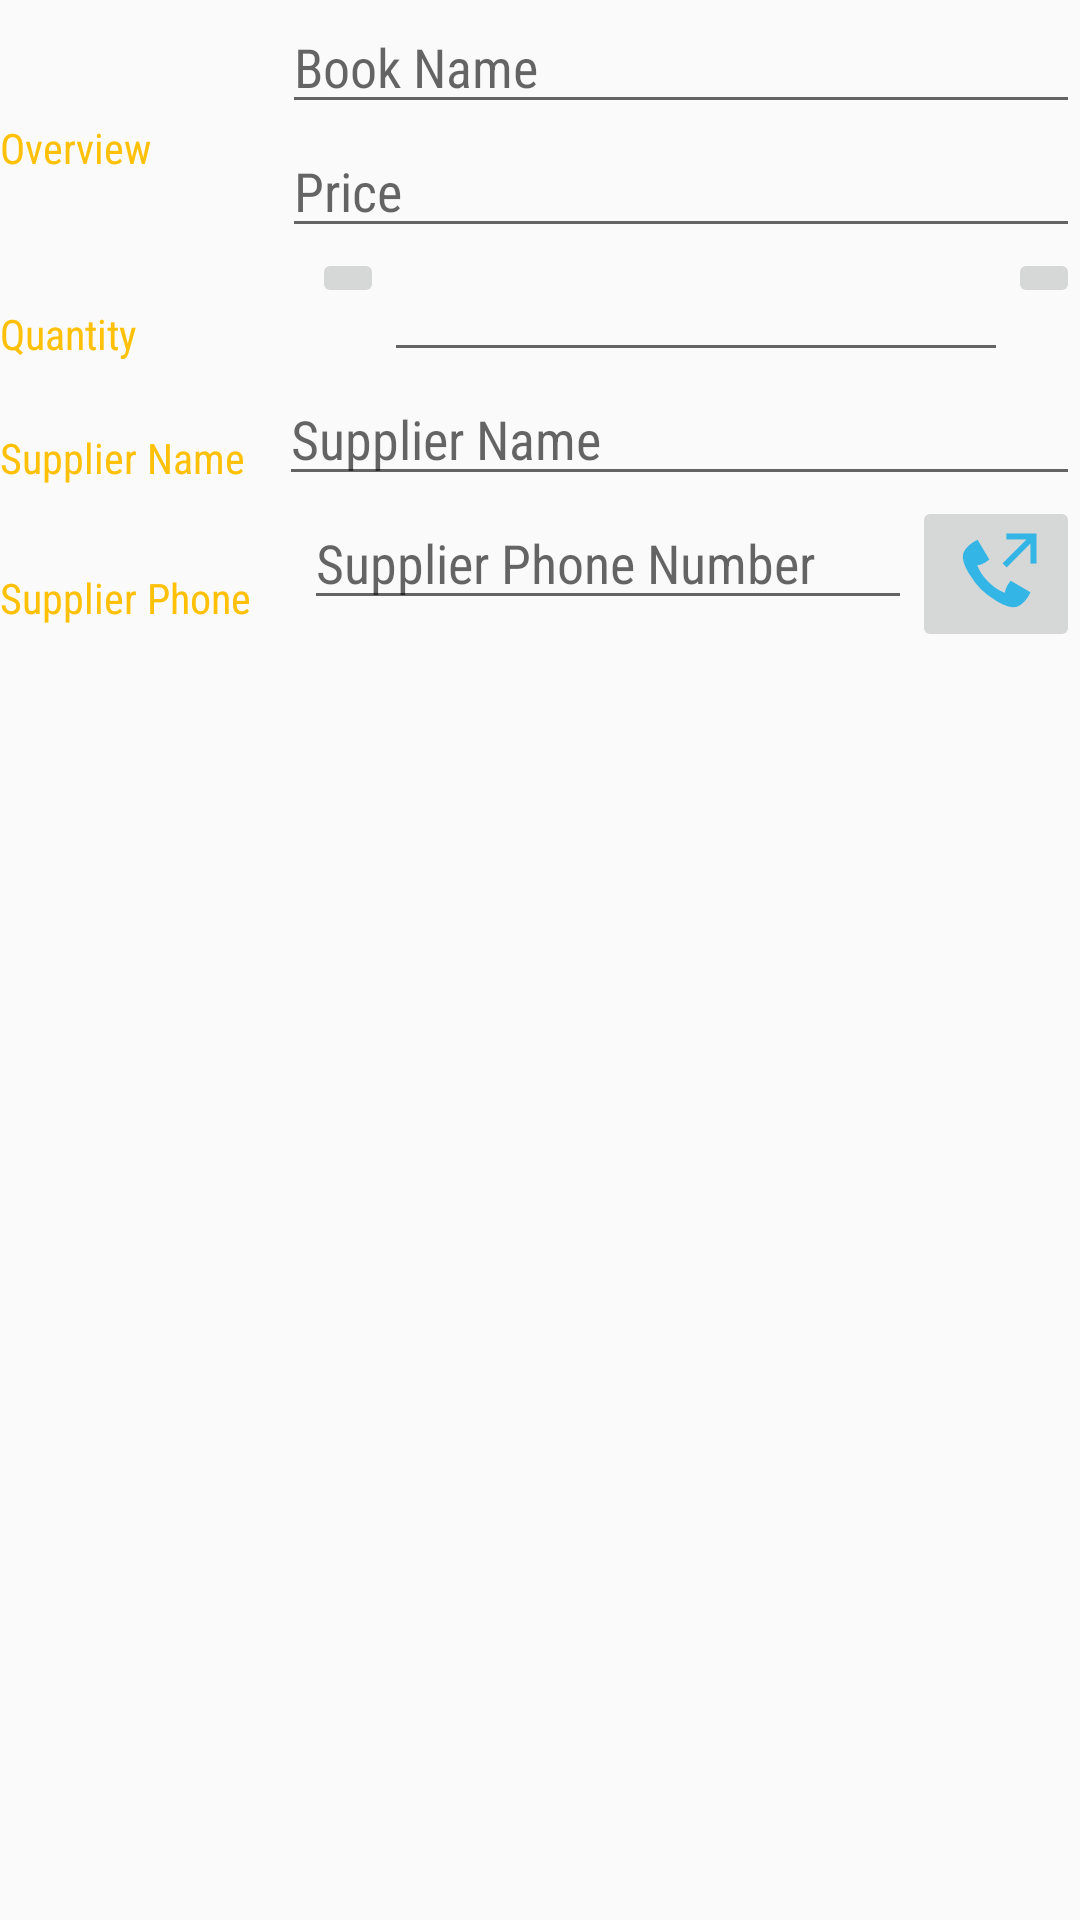

Icon bounding boxes for this 1080×1920 phone screenshot, format bbox=[x1, y1, x2, y2]:
phone outgoing: bbox=[924, 514, 1068, 634]
